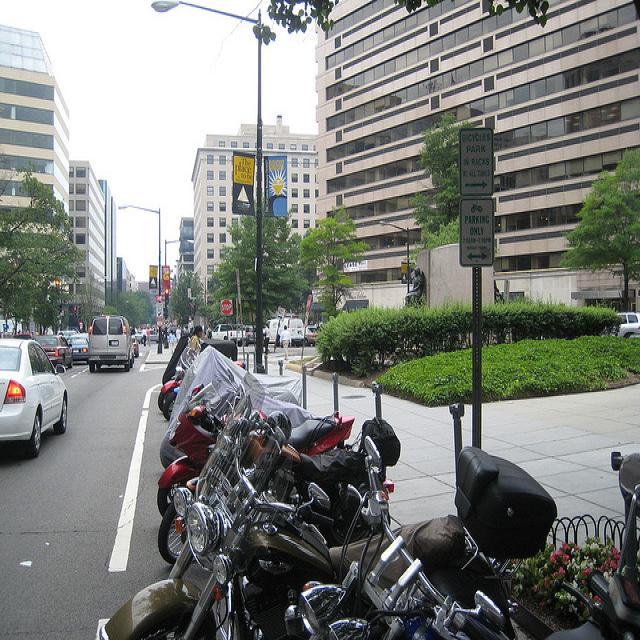motor: (104, 417, 429, 637), (157, 380, 355, 518), (284, 547, 552, 630), (159, 348, 300, 468), (402, 515, 515, 608), (283, 414, 403, 501), (212, 370, 318, 437), (156, 341, 244, 411)
